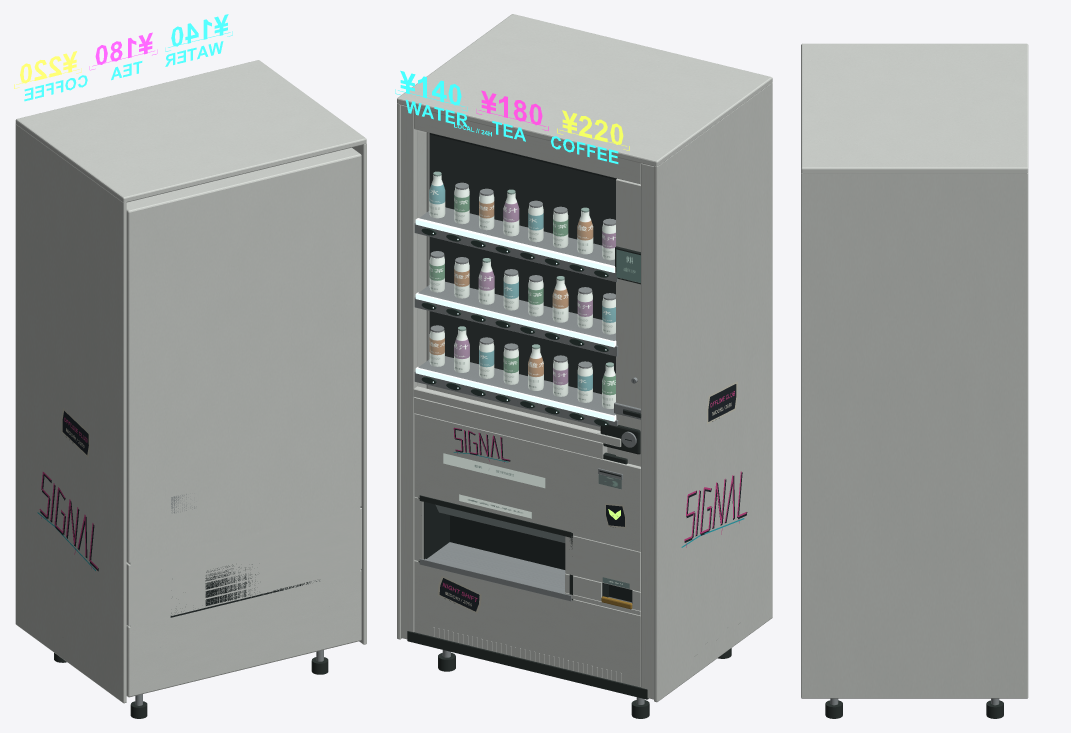
Rendered from vending_cyberpunk.glb.
3 renders of one model, left to right at view 1: azimuth 30°, elevation 25°; view 2: azimuth 150°, elevation 25°; view 3: azimuth 270°, elevation 25°, orthographic. The views are drawn at different scales.
Parts seen in each view (by area): view 1: Vending Original warm white powdercoat, Hologram / Hologram cyan emissive, Vending Cavity matte black, StreetArt / Sticker charcoal print, StreetArt / Original magenta spray paint, Hologram / Hologram lime emissive, Hologram / Hologram pink emissive, Vending Rubber seals charcoal; view 2: Vending Original warm white powdercoat, Vending Cavity matte black, Vending Original brushed stainless, Vending Original labels and UI, Vending Rubber seals charcoal, Vending Clear diffused shelf strips, StreetArt / Original warm white powdercoat, StreetArt / Sticker charcoal print, Hologram / Hologram cyan emissive, Vending Dark oval mechanical selectors, StreetArt / Original magenta spray paint, Vending Anodised selector frame (+3 smaller); view 3: Vending Original warm white powdercoat, Vending Rubber seals charcoal.
Boxes of the visible parts, x1,y1,x2,y2 form: Vending Original warm white powdercoat: (15,60,366,703); Hologram / Hologram cyan emissive: (24,14,232,101); Vending Cavity matte black: (170,564,319,617); StreetArt / Sticker charcoal print: (40,411,98,571); StreetArt / Original magenta spray paint: (39,417,97,568); Hologram / Hologram lime emissive: (14,51,81,88); Hologram / Hologram pink emissive: (89,32,157,70); Vending Rubber seals charcoal: (54,653,328,718); Vending Original warm white powdercoat: (397,14,772,702); Vending Cavity matte black: (423,133,633,603); Vending Original brushed stainless: (414,182,644,704); Vending Original labels and UI: (429,175,640,588); Vending Rubber seals charcoal: (407,246,731,718); Vending Clear diffused shelf strips: (415,218,616,424); StreetArt / Original warm white powdercoat: (414,397,607,459); StreetArt / Sticker charcoal print: (439,384,747,611); Hologram / Hologram cyan emissive: (395,70,618,163); Vending Dark oval mechanical selectors: (421,228,608,426); StreetArt / Original magenta spray paint: (442,391,746,601); Vending Anodised selector frame: (435,504,565,542); Vending Original warm white powdercoat: (801,43,1028,698); Vending Rubber seals charcoal: (825,700,1003,718).
Size of the model in its own units: 0.8712 by 1.97 by 0.753.
Materials: 20 (3 with a texture image).
